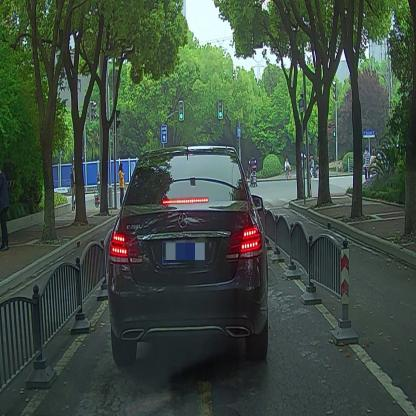Green Light: (218, 99, 223, 118), (179, 100, 183, 121)
